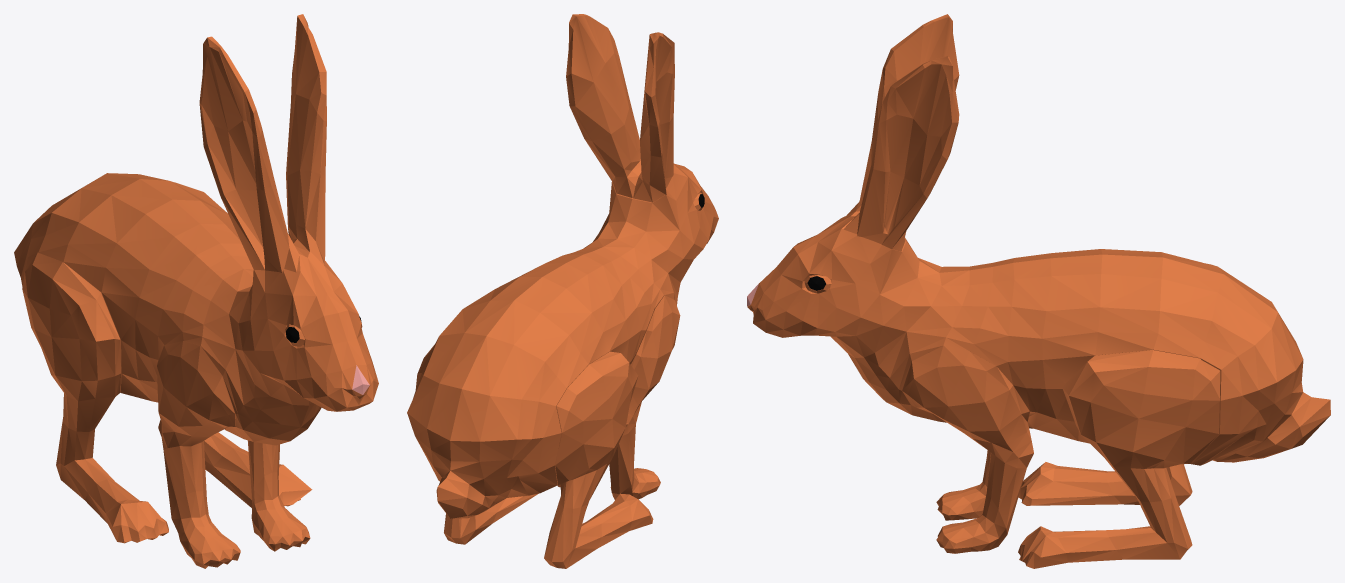
The model's file is rabbit.fbx.
3 views of the same model, side by side, from view 1: azimuth 30°, elevation 25°; view 2: azimuth 150°, elevation 25°; view 3: azimuth 270°, elevation 25° (orthographic). The views are drawn at different scales.
Parts seen in each view (by area): view 1: Rabbit, Rabbit.005, Rabbit.002, Rabbit.003, Rabbit.004, Rabbit.001; view 2: Rabbit, Rabbit.005, Rabbit.002, Rabbit.003, Rabbit.001; view 3: Rabbit, Rabbit.001, Rabbit.005, Rabbit.004, Rabbit.002, Rabbit.003.
Boxes of the visible parts, bbox=[...] form: Rabbit: bbox=[14, 173, 378, 445]; Rabbit.005: bbox=[199, 14, 326, 272]; Rabbit.002: bbox=[22, 252, 168, 543]; Rabbit.003: bbox=[157, 341, 240, 568]; Rabbit.004: bbox=[247, 334, 310, 551]; Rabbit.001: bbox=[204, 432, 312, 507]; Rabbit: bbox=[407, 163, 718, 518]; Rabbit.005: bbox=[566, 14, 674, 202]; Rabbit.002: bbox=[544, 351, 653, 568]; Rabbit.003: bbox=[609, 295, 680, 499]; Rabbit.001: bbox=[415, 344, 538, 544]; Rabbit: bbox=[747, 211, 1330, 465]; Rabbit.001: bbox=[1018, 350, 1220, 568]; Rabbit.005: bbox=[843, 14, 959, 251]; Rabbit.004: bbox=[902, 345, 1033, 553]; Rabbit.002: bbox=[1018, 462, 1192, 505]; Rabbit.003: bbox=[936, 450, 990, 520].
Size of the model in its own units: 46.43 by 117 by 125.
